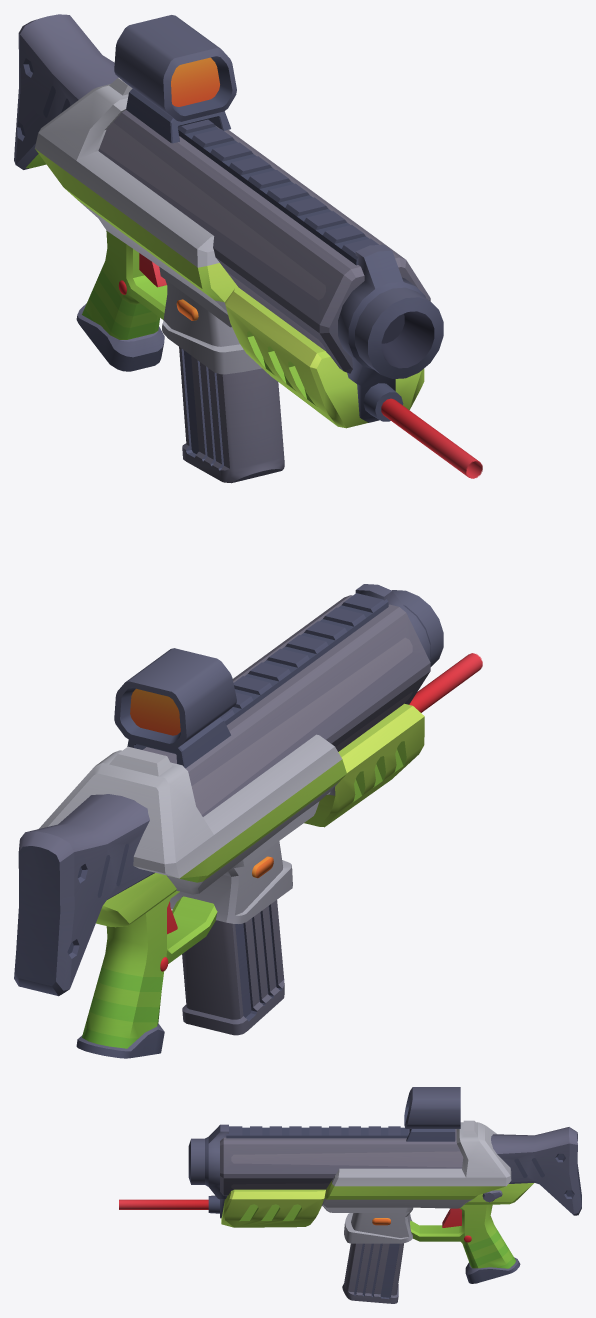
File: Rifle A.fbx
3 renders of one model, top to bottom at view 1: azimuth 30°, elevation 25°; view 2: azimuth 150°, elevation 25°; view 3: azimuth 270°, elevation 25°, orthographic. The views are drawn at different scales.
Parts seen in each view (by area): view 1: Rifle A, Rifle A.001, Rifle AA.001; view 2: Rifle A, Rifle A.001, Rifle AA.001; view 3: Rifle A, Rifle A.001, Rifle AA.001.
Boxes of the visible parts, bbox=[...] form: Rifle A: bbox=[14, 14, 443, 428]; Rifle A.001: bbox=[179, 347, 284, 483]; Rifle AA.001: bbox=[381, 398, 482, 478]; Rifle A: bbox=[14, 584, 443, 1058]; Rifle A.001: bbox=[182, 900, 284, 1035]; Rifle AA.001: bbox=[409, 653, 482, 712]; Rifle A: bbox=[188, 1087, 581, 1283]; Rifle A.001: bbox=[342, 1243, 403, 1303]; Rifle AA.001: bbox=[119, 1199, 208, 1209].
Bounding box in the file's own units: 0.2201 × 0.5625 × 1.42.
